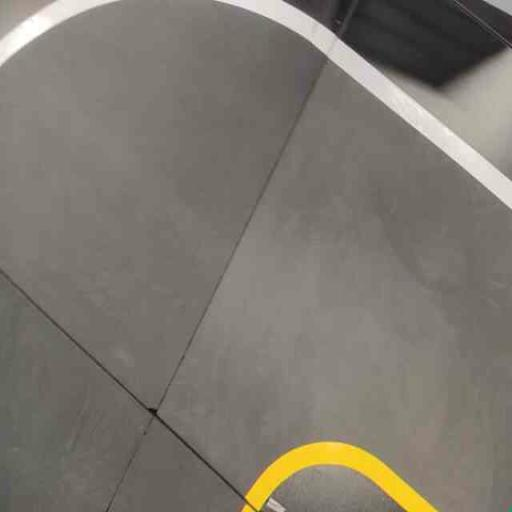left: (153, 18, 511, 509)
